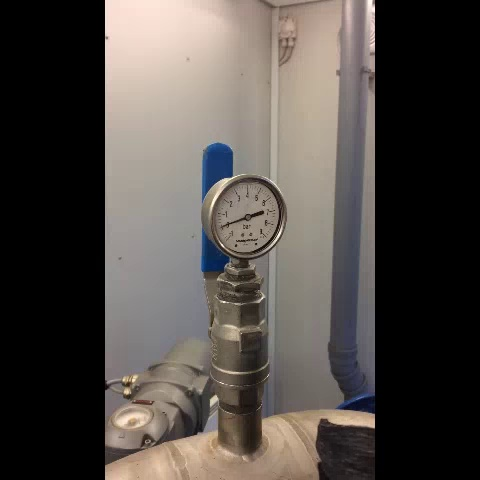Round_Meter: (212, 180, 285, 256)
